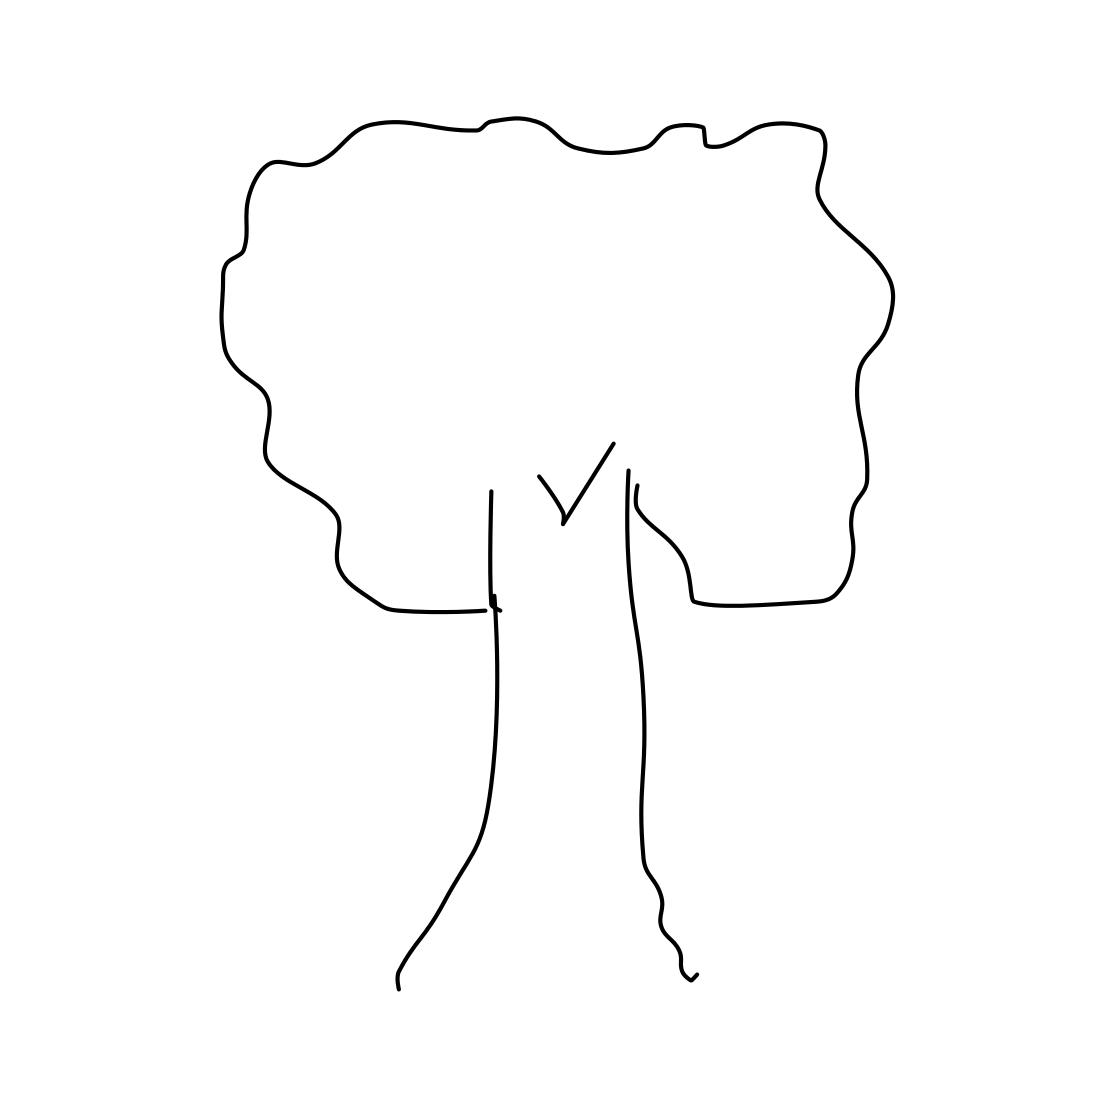Tree: (188, 82, 930, 1011)
